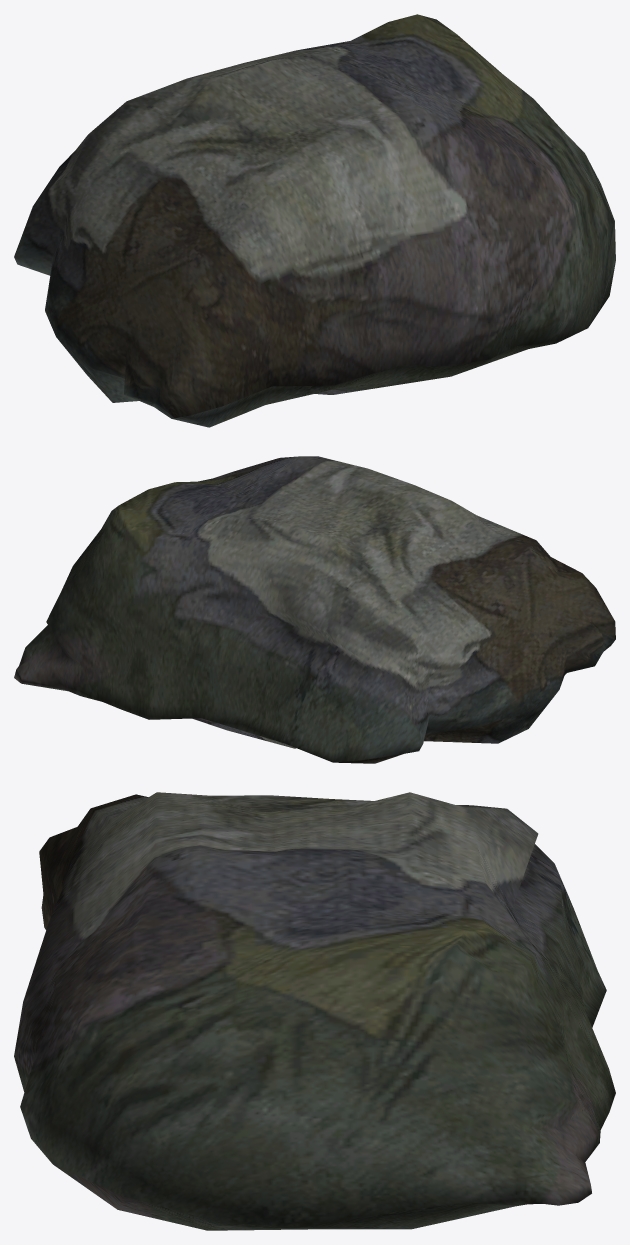
File: shirt_pile_dyn_hud.dae
3 renders of one model, top to bottom at view 1: azimuth 30°, elevation 25°; view 2: azimuth 150°, elevation 25°; view 3: azimuth 270°, elevation 25°, orthographic. The views are drawn at different scales.
Parts seen in each view (by area): view 1: shirt_pile; view 2: shirt_pile; view 3: shirt_pile.
Boxes of the visible parts, left/top/right/bottom form: shirt_pile: left=14, top=14, right=615, bottom=427; shirt_pile: left=14, top=456, right=615, bottom=763; shirt_pile: left=14, top=792, right=615, bottom=1230.
Bounding box in the file's own units: 0.2385 × 0.1162 × 0.1918.
